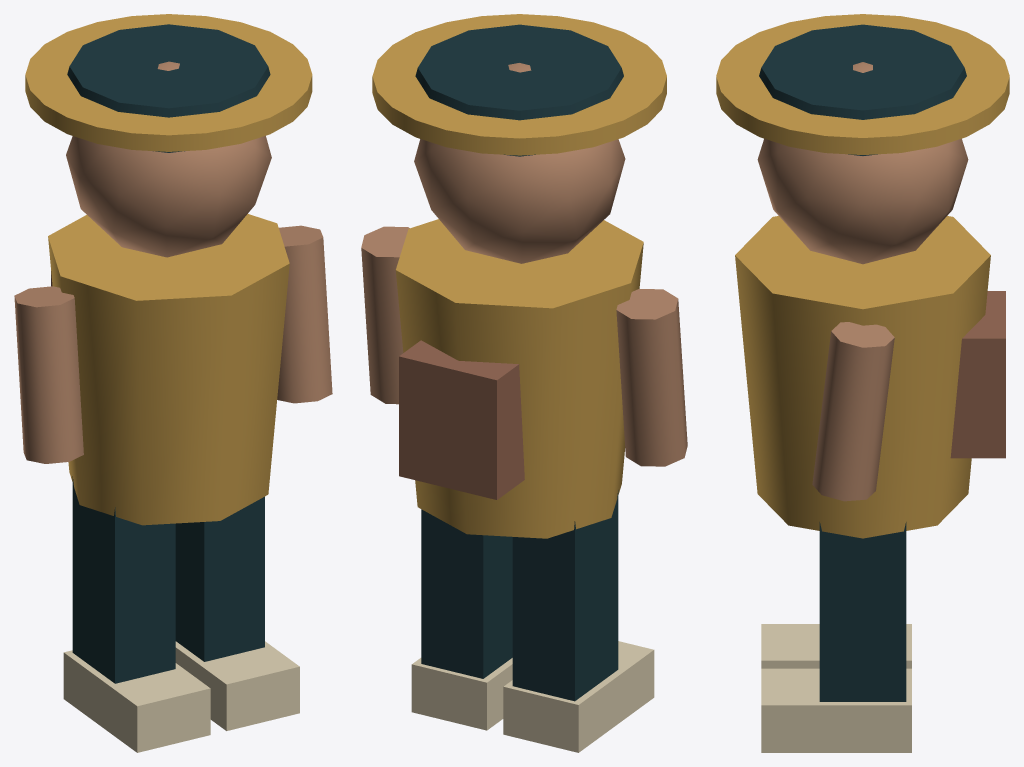
The model's file is guest_c.glb.
The picture shows the model from 3 angles, left to right: view 1: azimuth 30°, elevation 25°; view 2: azimuth 150°, elevation 25°; view 3: azimuth 270°, elevation 25°; orthographic projection. The views are drawn at different scales.
Visible parts, largest first — view 1: guest_c; view 2: guest_c; view 3: guest_c.
Part boxes in pixels (x1,y1,x2,y2): guest_c: (14, 14, 332, 752); guest_c: (361, 14, 687, 752); guest_c: (716, 14, 1009, 752).
Size of the model in its own units: 0.95 by 1.9 by 0.78.
